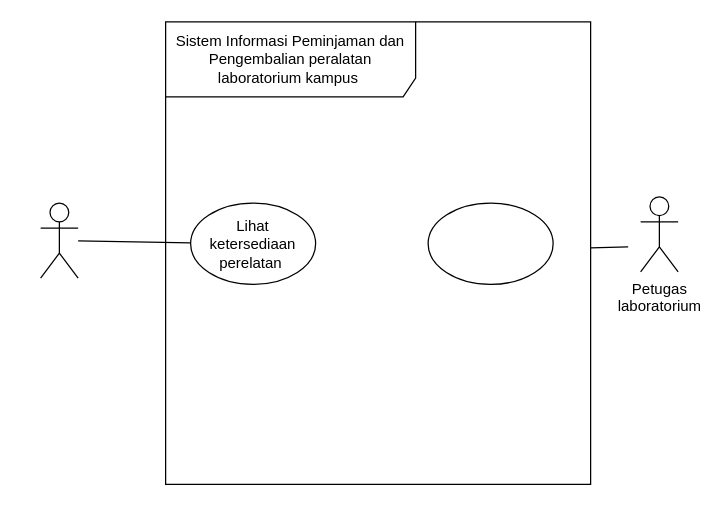
Some shapes in this 726 by 506 pixel diagram are drawn without their labels. The shapes that lost their labels are listed below. From the top down, each one's box as (x1, y1, x2, y2) in pixels, then its label:
(39, 202, 78, 278): Mahasiswa
(427, 202, 553, 284): kelola data peralatan
